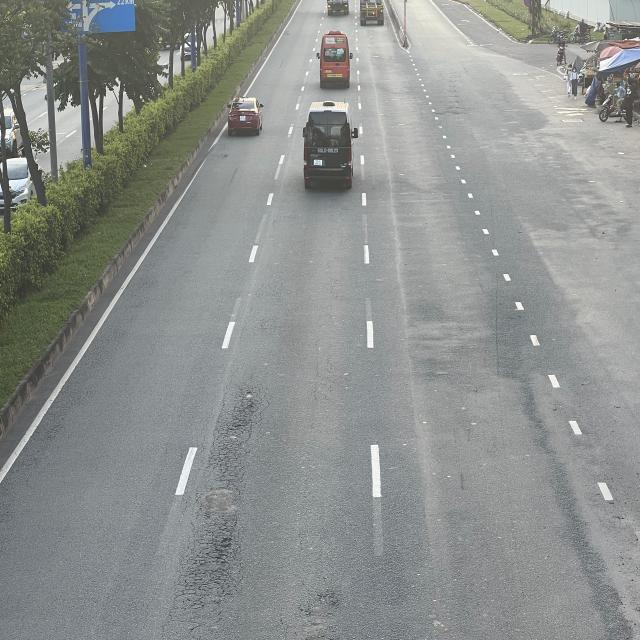car: (226, 96, 264, 134)
container: (358, 0, 384, 25)
van: (303, 101, 358, 186), (316, 31, 354, 87)
